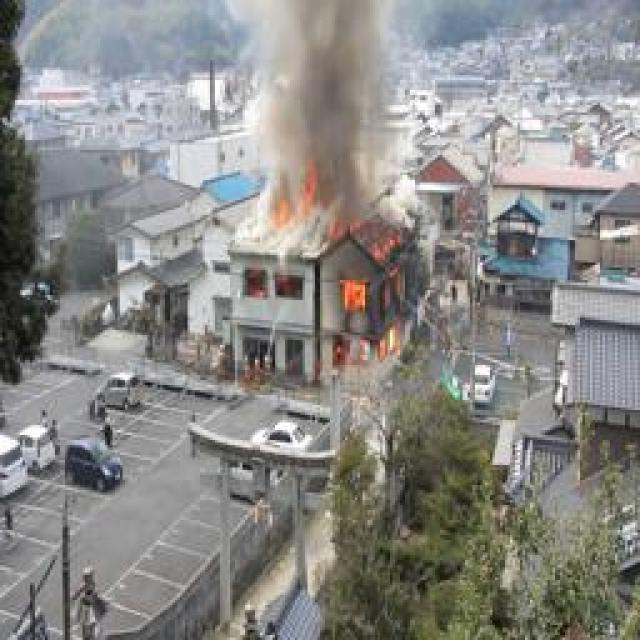Fire: (329, 241, 408, 367), (274, 158, 319, 225)
